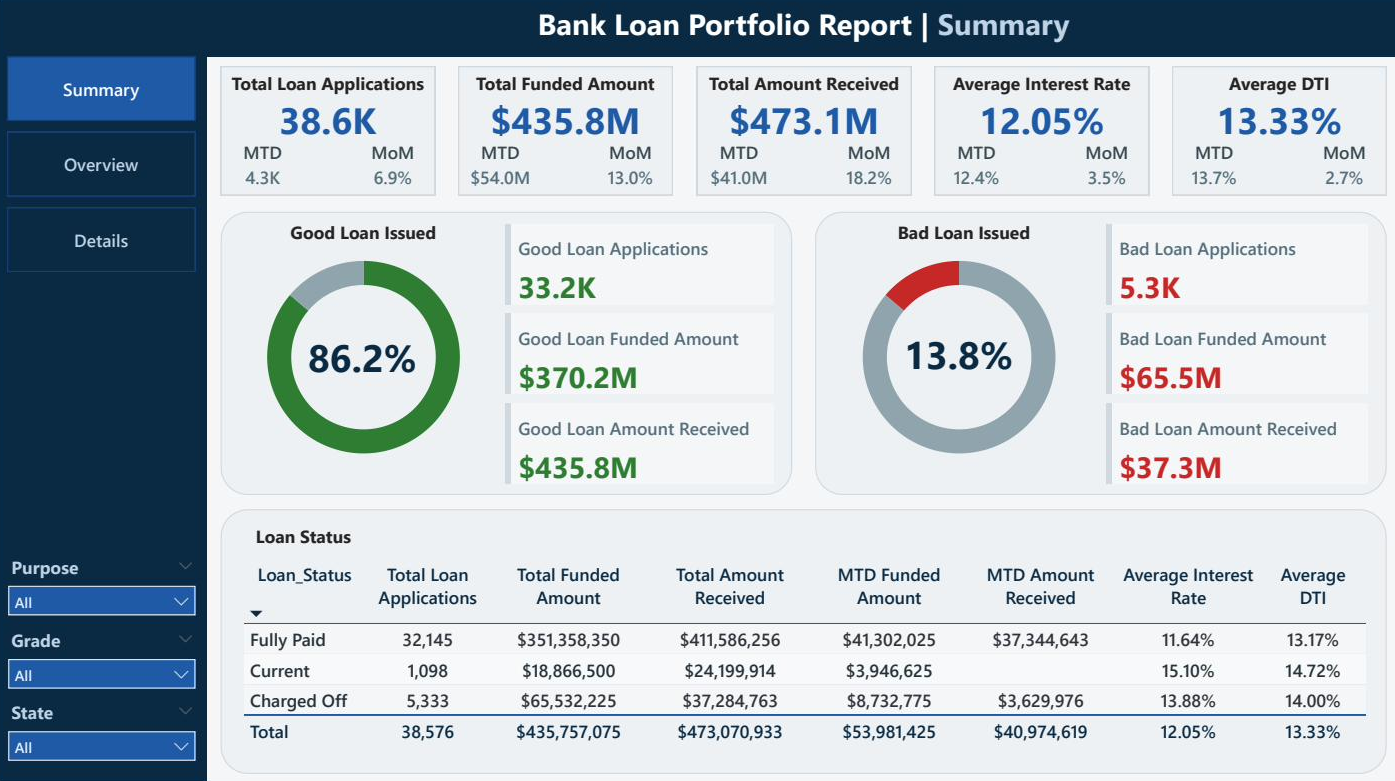

This screenshot's page, from the dashboard's own definition file:
{"tool":"powerbi","page":{"name":"Summary","canvas":[1280,720],"ordinal":0},"visuals":[{"type":"shape","box":[204.1,63.8,195.6,117.6],"z":0,"group":"g1"},{"type":"shape","box":[421.3,63.8,195.6,117.6],"z":0,"group":"g2"},{"type":"shape","box":[638.5,63.8,195.6,117.6],"z":0,"group":"g3"},{"type":"shape","box":[855.7,63.8,195.6,117.6],"z":0,"group":"g4"},{"type":"shape","box":[1072.9,63.8,195.6,117.6],"z":0,"group":"g5"},{"type":"shape","box":[204.1,197,521.6,259.4],"z":0},{"type":"shape","box":[0,53.9,191.3,664.7],"z":1000},{"type":"donutChart","fields":{"Y":["_Measures.Total Loan Applications"],"Category":["bank_loan.Good Loan Vs Bad Loan"]},"box":[209.8,215.4,249.4,229.6],"z":2000},{"type":"shape","box":[0.2,0,1279.8,55.3],"z":3000},{"type":"card","fields":{"Values":["_Measures.Total Loan Applications"]},"box":[204.1,95,195.6,36.9],"z":3000,"group":"g1"},{"type":"card","fields":{"Values":["_Measures.Total Funded Amount"]},"box":[421.3,95,195.6,36.9],"z":3000,"group":"g2"},{"type":"card","fields":{"Values":["_Measures.Total Amount Received"]},"box":[638.5,95,195.6,36.9],"z":3000,"group":"g3"},{"type":"card","fields":{"Values":["_Measures.Average Interest Rate"]},"box":[855.7,95,195.6,36.9],"z":3000,"group":"g4"},{"type":"card","fields":{"Values":["_Measures.Average DTI"]},"box":[1072.9,95,195.6,36.9],"z":3000,"group":"g5"},{"type":"textbox","box":[481.9,1.4,508.8,53.9],"z":4000},{"type":"group","id":"g1","title":"Group 1","box":[204.1,63.8,195.6,117.6],"z":5000},{"type":"textbox","box":[204.1,63.8,195.6,31.2],"z":5000,"group":"g1"},{"type":"textbox","box":[421.3,63.8,195.6,31.2],"z":5000,"group":"g2"},{"type":"textbox","box":[638.5,63.8,195.6,31.2],"z":5000,"group":"g3"},{"type":"textbox","box":[855.7,63.8,195.6,31.2],"z":5000,"group":"g4"},{"type":"textbox","box":[1072.9,63.8,195.6,31.2],"z":5000,"group":"g5"},{"type":"card","title":"MTD","fields":{"Values":["_Measures.MTD Loan Applications"]},"box":[204.1,131.8,76.5,49.6],"z":6000,"group":"g1"},{"type":"card","title":"MTD","fields":{"Values":["_Measures.MTD Funded Amount"]},"box":[421.3,131.8,76.5,49.6],"z":6000,"group":"g2"},{"type":"card","title":"MTD","fields":{"Values":["_Measures.MTD Amount Received"]},"box":[638.5,131.8,76.5,49.6],"z":6000,"group":"g3"},{"type":"card","title":"MTD","fields":{"Values":["_Measures.MTD Average Interest Rate"]},"box":[855.7,131.8,76.5,49.6],"z":6000,"group":"g4"},{"type":"card","title":"MTD","fields":{"Values":["_Measures.MTD DTI"]},"box":[1072.9,131.8,76.5,49.6],"z":6000,"group":"g5"},{"type":"textbox","box":[258,199.8,153.1,36.9],"z":6000},{"type":"group","id":"g2","title":"Group 1","box":[421.3,63.8,195.6,117.6],"z":7000},{"type":"card","title":"MoM","fields":{"Values":["_Measures.MoM Applications"]},"box":[323.2,131.8,76.5,49.6],"z":7000,"group":"g1"},{"type":"card","title":"MoM","fields":{"Values":["_Measures.MoM Funded Amount %"]},"box":[540.4,131.8,76.5,49.6],"z":7000,"group":"g2"},{"type":"card","title":"MoM","fields":{"Values":["_Measures.MoM Amount Received %"]},"box":[757.6,131.8,76.5,49.6],"z":7000,"group":"g3"},{"type":"card","title":"MoM","fields":{"Values":["_Measures.MoM Average Interest Rate %"]},"box":[974.8,131.8,76.5,49.6],"z":7000,"group":"g4"},{"type":"card","title":"MoM","fields":{"Values":["_Measures.MoM DTI %"]},"box":[1192,131.8,76.5,49.6],"z":7000,"group":"g5"},{"type":"card","fields":{"Values":["_Measures.Good Loan Application %"]},"box":[276.4,304.7,114.8,51],"z":8000},{"type":"group","id":"g3","title":"Group 1","box":[638.5,63.8,195.6,117.6],"z":9000},{"type":"group","id":"g4","title":"Group 1","box":[855.7,63.8,195.6,117.6],"z":10000},{"type":"group","id":"g5","title":"Group 1","box":[1072.9,63.8,195.6,117.6],"z":11000},{"type":"shape","box":[746.9,197,521.6,259.4],"z":12000},{"type":"cardVisual","fields":{"Data":["_Measures.Good Loan Applications","_Measures.Good Loan Funded Amount","_Measures.Good Loan Amount Received"]},"box":[459.2,202.7,255.1,248],"z":13000},{"type":"donutChart","fields":{"Y":["_Measures.Total Loan Applications"],"Category":["bank_loan.Good Loan Vs Bad Loan"]},"box":[754,215.4,249.4,229.6],"z":14000},{"type":"textbox","box":[812.1,199.8,141.7,39.7],"z":15000},{"type":"card","fields":{"Values":["_Measures.Bad Loan Application %"]},"box":[820.6,301.9,114.8,51],"z":16000},{"type":"cardVisual","fields":{"Data":["_Measures.Bad Loan Applications","_Measures.Bad Loan Funded Amount","_Measures.Bad Loan Amount Received"]},"box":[1007.7,202.7,249.4,248],"z":17000},{"type":"shape","box":[204.1,469.1,1064.4,242.4],"z":18000},{"type":"tableEx","fields":{"Values":["bank_loan.loan_status","_Measures.Total Loan Applications","_Measures.Total Funded Amount","_Measures.Total Amount Received","_Measures.MTD Funded Amount","_Measures.MTD Amount Received","_Measures.Average Interest Rate","_Measures.Average DTI"]},"box":[219.7,510.2,1036.1,188.5],"z":19000},{"type":"textbox","box":[221.1,477.6,113.4,32.6],"z":20000},{"type":"slicer","title":"Purpose","fields":{"Values":["bank_loan.purpose"]},"box":[0,506,191.3,66.6],"z":21000},{"type":"slicer","fields":{"Values":["bank_loan.grade"]},"box":[0,572.6,191.3,66.6],"z":23000},{"type":"slicer","fields":{"Values":["bank_loan.address_state"]},"box":[0,639.2,191.3,72.3],"z":26000},{"type":"pageNavigator","box":[8.5,55.3,172.9,198.4],"z":27000}]}

Visuals, with their boxes on the page's 1280x720 design canvas (x1, y1, x2, y2). These are canvas units, not pixel positions in the 1395x781 screenshot, which may show the page scaled, cropped or inside an application window:
shape: box=[204, 64, 400, 181]
shape: box=[421, 64, 617, 181]
shape: box=[638, 64, 834, 181]
shape: box=[856, 64, 1051, 181]
shape: box=[1073, 64, 1268, 181]
shape: box=[204, 197, 726, 456]
shape: box=[0, 54, 191, 719]
donutChart - _Measures.Total Loan Applications x bank_loan.Good Loan Vs Bad Loan: box=[210, 215, 459, 445]
shape: box=[0, 0, 1280, 55]
card - _Measures.Total Loan Applications: box=[204, 95, 400, 132]
card - _Measures.Total Funded Amount: box=[421, 95, 617, 132]
card - _Measures.Total Amount Received: box=[638, 95, 834, 132]
card - _Measures.Average Interest Rate: box=[856, 95, 1051, 132]
card - _Measures.Average DTI: box=[1073, 95, 1268, 132]
textbox: box=[482, 1, 991, 55]
"Group 1" group: box=[204, 64, 400, 181]
textbox: box=[204, 64, 400, 95]
textbox: box=[421, 64, 617, 95]
textbox: box=[638, 64, 834, 95]
textbox: box=[856, 64, 1051, 95]
textbox: box=[1073, 64, 1268, 95]
"MTD" card: box=[204, 132, 281, 181]
"MTD" card: box=[421, 132, 498, 181]
"MTD" card: box=[638, 132, 715, 181]
"MTD" card: box=[856, 132, 932, 181]
"MTD" card: box=[1073, 132, 1149, 181]
textbox: box=[258, 200, 411, 237]
"Group 1" group: box=[421, 64, 617, 181]
"MoM" card: box=[323, 132, 400, 181]
"MoM" card: box=[540, 132, 617, 181]
"MoM" card: box=[758, 132, 834, 181]
"MoM" card: box=[975, 132, 1051, 181]
"MoM" card: box=[1192, 132, 1268, 181]
card - _Measures.Good Loan Application %: box=[276, 305, 391, 356]
"Group 1" group: box=[638, 64, 834, 181]
"Group 1" group: box=[856, 64, 1051, 181]
"Group 1" group: box=[1073, 64, 1268, 181]
shape: box=[747, 197, 1268, 456]
cardVisual - _Measures.Good Loan Applications x _Measures.Good Loan Funded Amount: box=[459, 203, 714, 451]
donutChart - _Measures.Total Loan Applications x bank_loan.Good Loan Vs Bad Loan: box=[754, 215, 1003, 445]
textbox: box=[812, 200, 954, 240]
card - _Measures.Bad Loan Application %: box=[821, 302, 935, 353]
cardVisual - _Measures.Bad Loan Applications x _Measures.Bad Loan Funded Amount: box=[1008, 203, 1257, 451]
shape: box=[204, 469, 1268, 712]
tableEx - bank_loan.loan_status x _Measures.Total Loan Applications: box=[220, 510, 1256, 699]
textbox: box=[221, 478, 334, 510]
"Purpose" slicer: box=[0, 506, 191, 573]
slicer - bank_loan.grade: box=[0, 573, 191, 639]
slicer - bank_loan.address_state: box=[0, 639, 191, 712]
pageNavigator: box=[8, 55, 181, 254]
